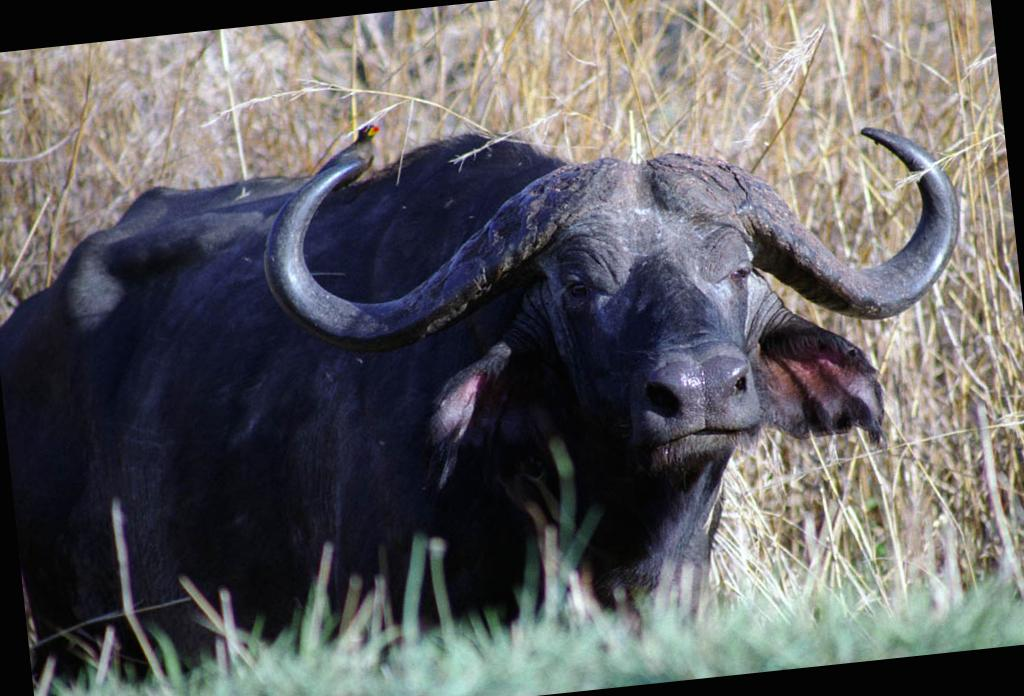Buffalo: (0, 34, 938, 696)
